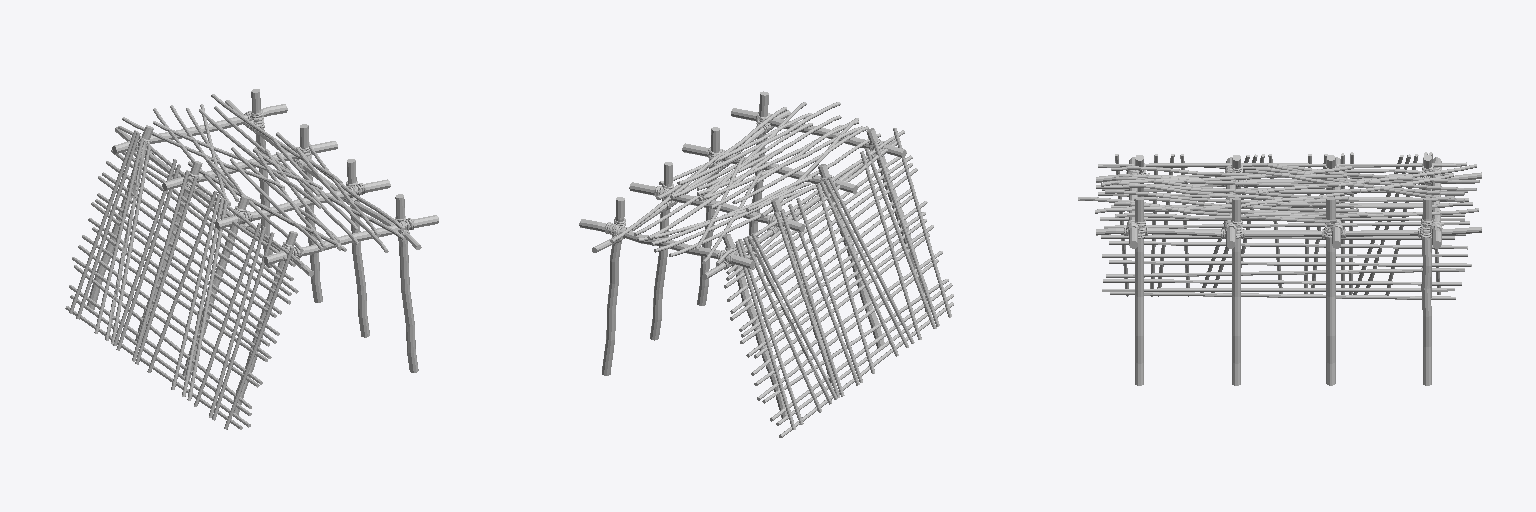
The model's file is lowpoly_viking_tent_007.obj.
The picture shows the model from 3 angles: view 1: azimuth 30°, elevation 25°; view 2: azimuth 150°, elevation 25°; view 3: azimuth 270°, elevation 25°; orthographic projection.
Parts seen in each view (by area): view 1: Cylinder.138, Cylinder.139, Cylinder.143, Cylinder.144, Cylinder.142, Cylinder.041, Cylinder.140, BezierCircle.416, Cylinder.042, Cylinder.039, Cylinder.043, Cylinder.037 (+28 smaller); view 2: Cylinder.137, Cylinder.140, Cylinder.144, Cylinder.136, Cylinder.143, Cylinder.141, Cylinder.139, BezierCircle.416, Cylinder.142, Cylinder.038, Cylinder.047, Cylinder.041 (+28 smaller); view 3: Cylinder.146, Cylinder.140, Cylinder.137, Cylinder.138, Cylinder.139, Cylinder.056, Cylinder.053, Cylinder.051, Cylinder.055, Cylinder.054, Cylinder.057, Cylinder.062 (+24 smaller).
Boxes of the visible parts, x1,y1,x2,y2 form: Cylinder.138: [395, 194, 418, 372]; Cylinder.139: [347, 159, 369, 337]; Cylinder.143: [264, 215, 438, 264]; Cylinder.144: [112, 104, 287, 154]; Cylinder.142: [215, 179, 390, 229]; Cylinder.041: [105, 141, 147, 340]; Cylinder.140: [300, 124, 322, 302]; BezierCircle.416: [243, 110, 414, 234]; Cylinder.042: [94, 138, 143, 333]; Cylinder.039: [111, 144, 150, 344]; Cylinder.043: [171, 194, 220, 389]; Cylinder.037: [132, 170, 189, 361]; Cylinder.137: [602, 197, 624, 375]; Cylinder.140: [650, 162, 672, 340]; Cylinder.144: [579, 219, 754, 268]; Cylinder.136: [722, 234, 787, 418]; Cylinder.143: [731, 108, 905, 157]; Cylinder.141: [629, 182, 804, 232]; Cylinder.139: [697, 127, 719, 305]; BezierCircle.416: [605, 112, 774, 243]; Cylinder.142: [682, 143, 857, 193]; Cylinder.038: [780, 210, 844, 396]; Cylinder.047: [860, 151, 921, 339]; Cylinder.041: [747, 235, 831, 404]; Cylinder.146: [1096, 227, 1481, 236]; Cylinder.140: [1326, 197, 1335, 385]; Cylinder.137: [1421, 197, 1431, 385]; Cylinder.138: [1135, 197, 1143, 385]; Cylinder.139: [1232, 197, 1240, 385]; Cylinder.056: [1106, 268, 1464, 277]; Cylinder.053: [1109, 260, 1471, 266]; Cylinder.051: [1102, 254, 1467, 257]; Cylinder.055: [1103, 279, 1461, 285]; Cylinder.054: [1102, 288, 1454, 291]; Cylinder.057: [1110, 292, 1455, 299]; Cylinder.062: [1109, 241, 1467, 249].
Size of the model in its own units: 5.76 by 4.76 by 9.35.